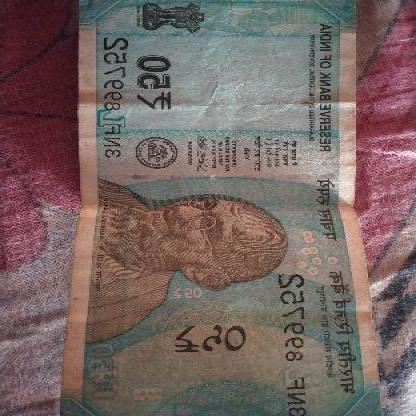New50Front: (57, 2, 361, 416)
